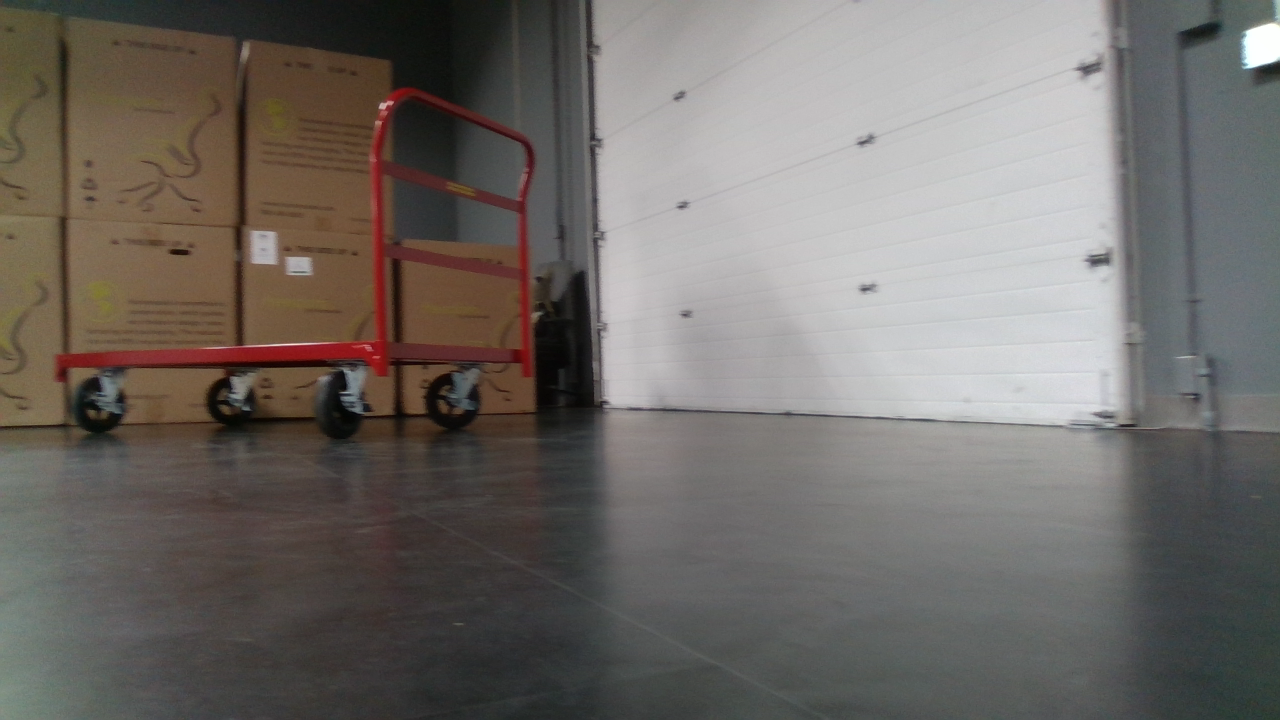Dolly: (51, 77, 541, 438)
Wheel: (419, 368, 491, 436), (315, 369, 372, 446), (201, 370, 265, 432), (71, 374, 128, 440)
